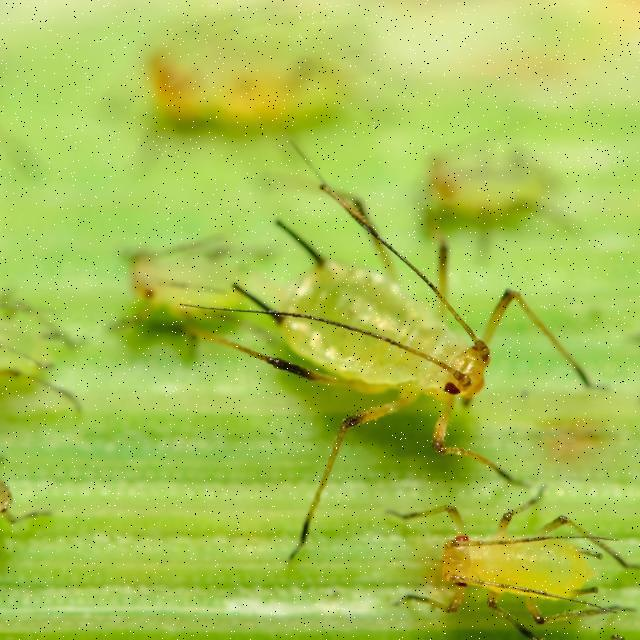Aphids: (225, 187, 601, 438), (317, 488, 640, 640), (95, 202, 318, 329)
